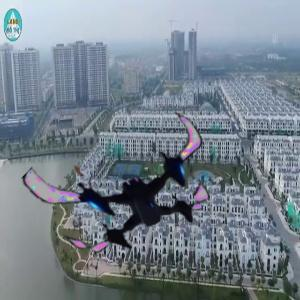drone: (47, 98, 226, 277)
